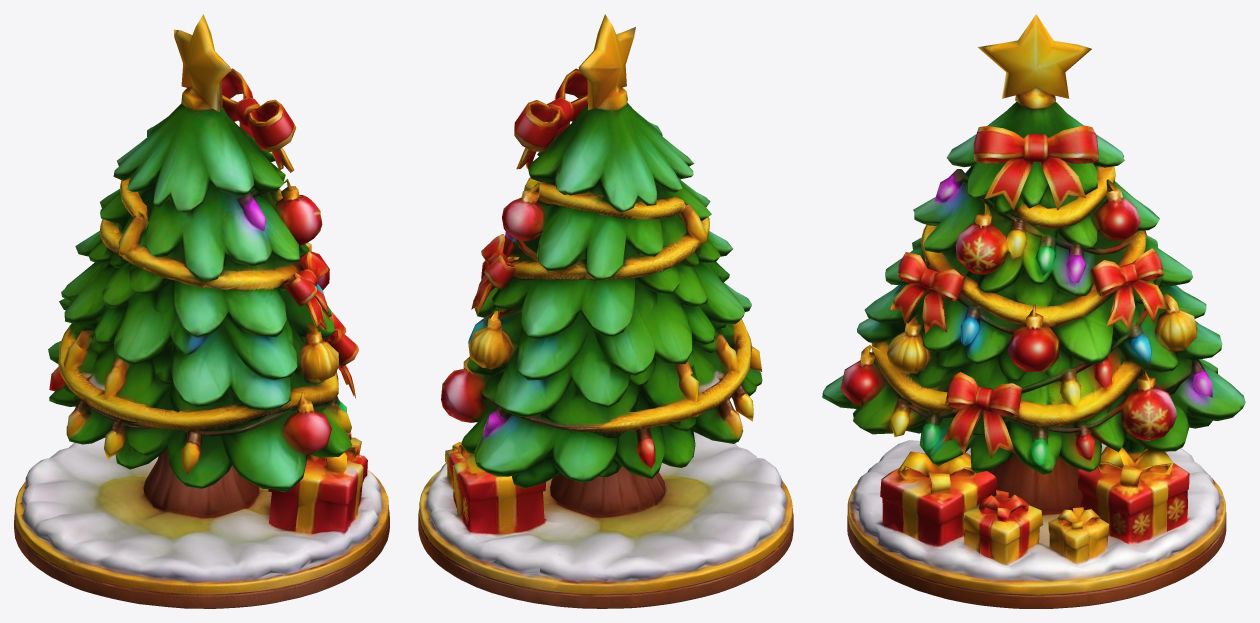
File: fx_xmas.glb
3 renders of one model, left to right at view 1: azimuth 30°, elevation 25°; view 2: azimuth 150°, elevation 25°; view 3: azimuth 270°, elevation 25°, orthographic.
Parts seen in each view (by area): view 1: tripo_node_e23b260d-3a87-4157-99f5-55f9d5a6f7b9; view 2: tripo_node_e23b260d-3a87-4157-99f5-55f9d5a6f7b9; view 3: tripo_node_e23b260d-3a87-4157-99f5-55f9d5a6f7b9.
Part boxes in pixels (box(x1,y1,x2,y2)): tripo_node_e23b260d-3a87-4157-99f5-55f9d5a6f7b9: box(14, 14, 389, 608); tripo_node_e23b260d-3a87-4157-99f5-55f9d5a6f7b9: box(418, 14, 793, 608); tripo_node_e23b260d-3a87-4157-99f5-55f9d5a6f7b9: box(822, 14, 1245, 608).
Bounding box in the file's own units: 0.6637 × 1 × 0.7426.
1 material, 1 textured.
